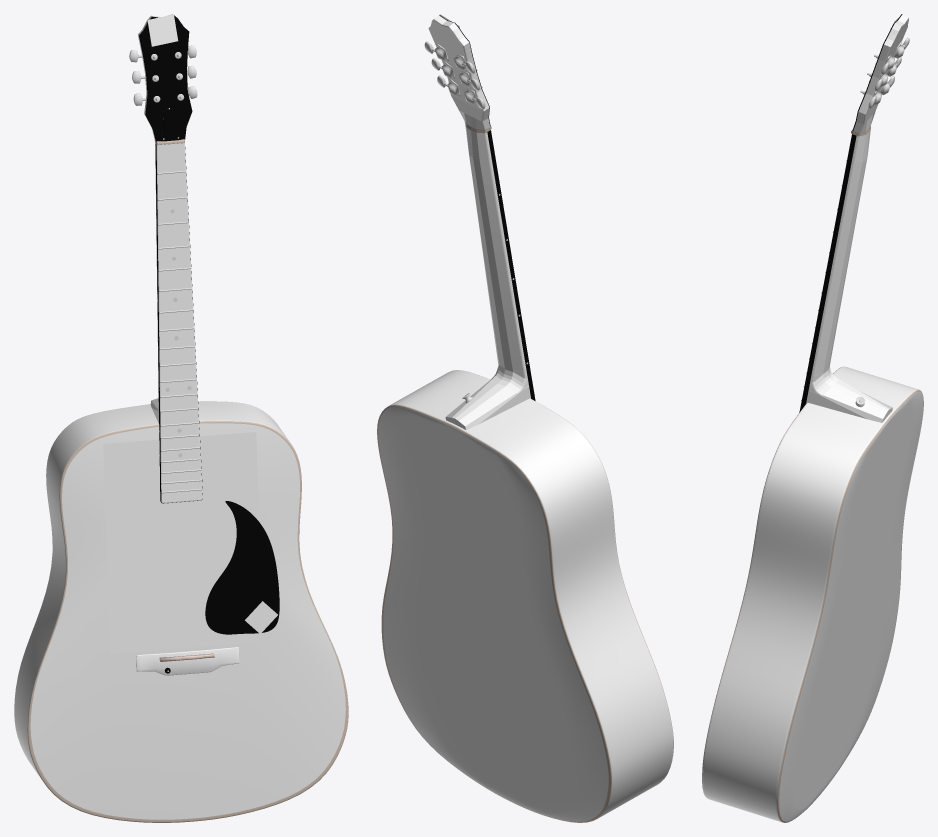
Rendered from Guitar.glb.
3 renders of one model, left to right at view 1: azimuth 30°, elevation 25°; view 2: azimuth 150°, elevation 25°; view 3: azimuth 270°, elevation 25°, orthographic. The views are drawn at different scales.
Visible parts, largest first — view 1: Body, Guitar_Circles, Neck, Pickguard, Plane.008, Epiphone_Text; view 2: Body, Neck; view 3: Body, Neck.
Boxes of the visible parts, box(x1,y1,x2,y2) form: Body: box(14, 401, 348, 822); Guitar_Circles: box(103, 432, 262, 653); Neck: box(138, 14, 202, 503); Pickguard: box(205, 501, 279, 634); Plane.008: box(136, 647, 239, 675); Epiphone_Text: box(147, 14, 178, 46); Body: box(377, 370, 673, 822); Neck: box(428, 15, 535, 429); Body: box(702, 366, 923, 822); Neck: box(799, 14, 908, 422).
Bounding box in the file's own units: 1.96 × 4.9 × 1.25.
